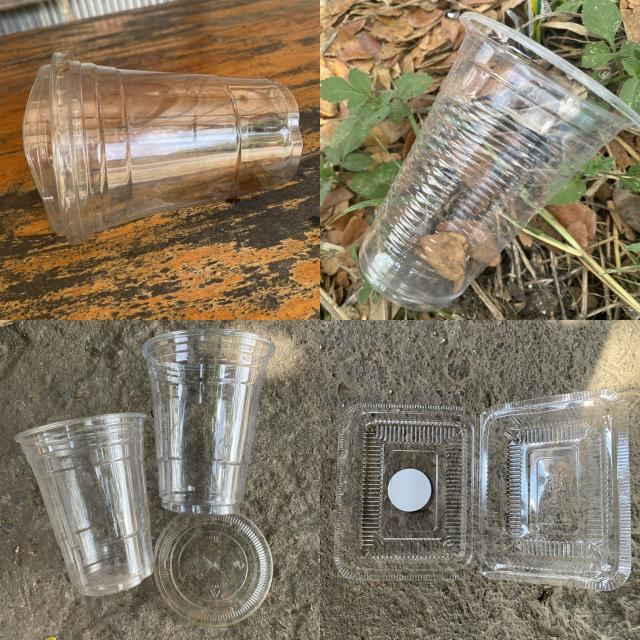Single-Use-Plastic: (360, 12, 640, 311), (22, 50, 302, 244), (480, 390, 630, 590), (15, 414, 154, 596), (334, 404, 474, 580), (142, 329, 275, 514), (154, 514, 272, 627)
